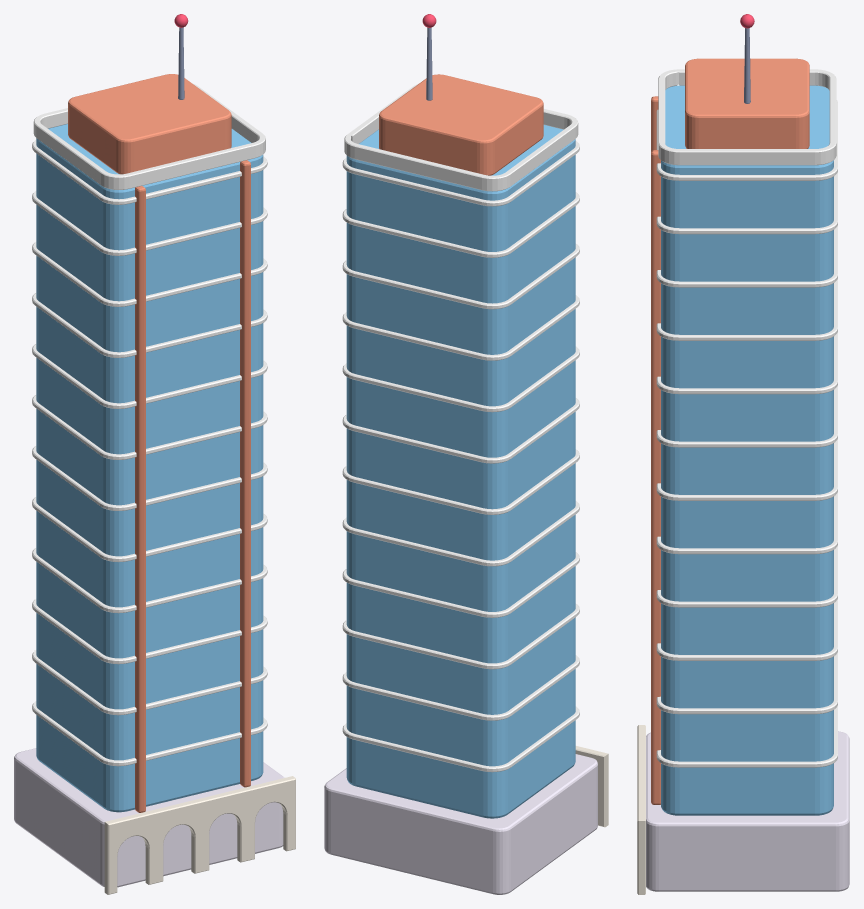
The model's file is torre_a.glb.
3 views of the same model, side by side, from view 1: azimuth 30°, elevation 25°; view 2: azimuth 150°, elevation 25°; view 3: azimuth 270°, elevation 25° (orthographic). The views are drawn at different scales.
Visible parts, largest first — view 1: torre_a_vidro, torre_a_corpo; view 2: torre_a_vidro, torre_a_corpo; view 3: torre_a_vidro, torre_a_corpo.
Part boxes in pixels (box(x1,y1,x2,y2)): torre_a_vidro: box(36, 124, 263, 812); torre_a_corpo: box(14, 14, 295, 894); torre_a_vidro: box(346, 125, 575, 818); torre_a_corpo: box(324, 14, 608, 894); torre_a_vidro: box(661, 85, 833, 815); torre_a_corpo: box(637, 14, 849, 894).
Bounding box in the file's own units: 13.12 × 54.08 × 12.25.
